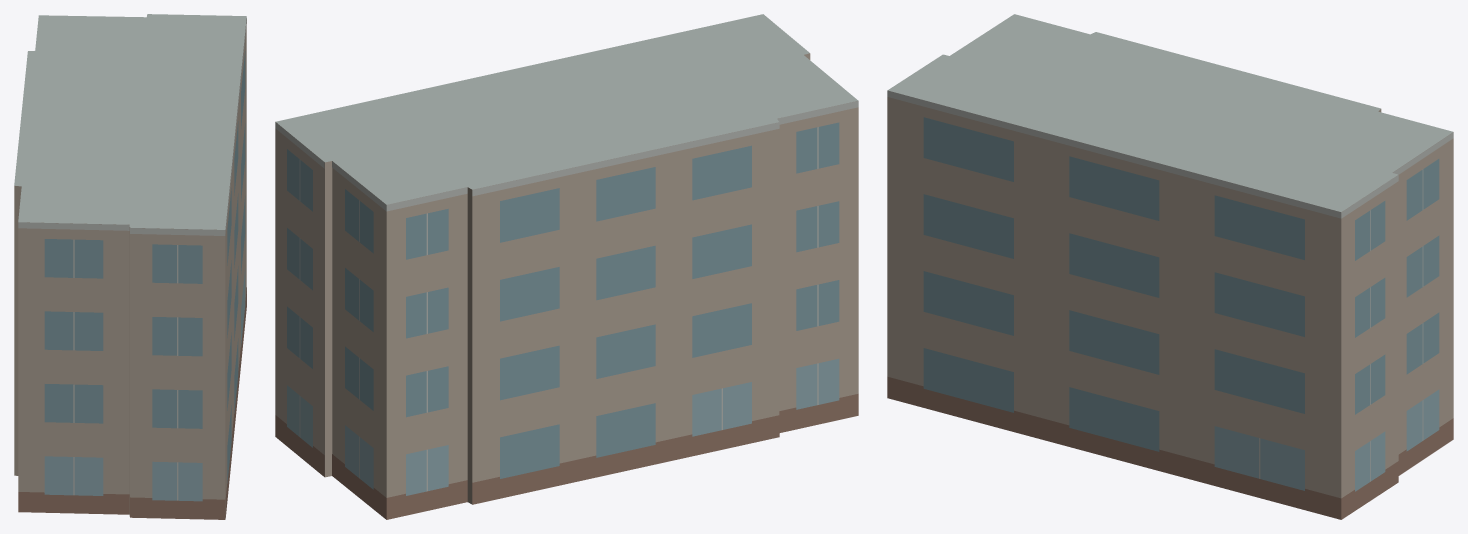
The model's file is survey-upis-32883291.glb.
3 views of the same model, side by side, from view 1: azimuth 30°, elevation 25°; view 2: azimuth 150°, elevation 25°; view 3: azimuth 270°, elevation 25° (orthographic). The views are drawn at different scales.
Visible parts, largest first — view 1: survey-upis-32883291.tmp; view 2: survey-upis-32883291.tmp; view 3: survey-upis-32883291.tmp.
Part boxes in pixels (bbox=[...]): survey-upis-32883291.tmp: bbox=[14, 14, 246, 519]; survey-upis-32883291.tmp: bbox=[275, 14, 858, 519]; survey-upis-32883291.tmp: bbox=[887, 14, 1453, 519].
Bounding box in the file's own units: 16.03 × 11.6 × 19.35.
